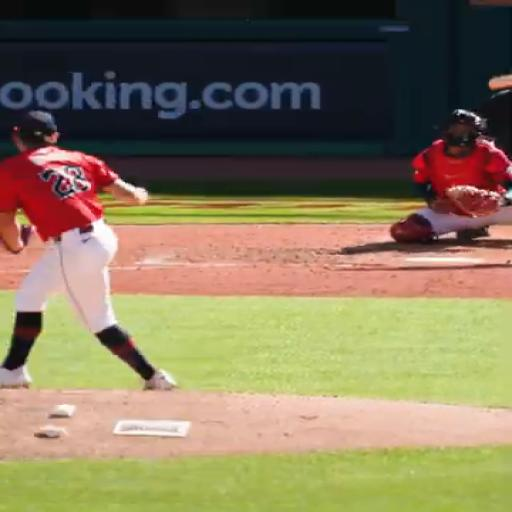bat: (488, 74, 511, 91)
